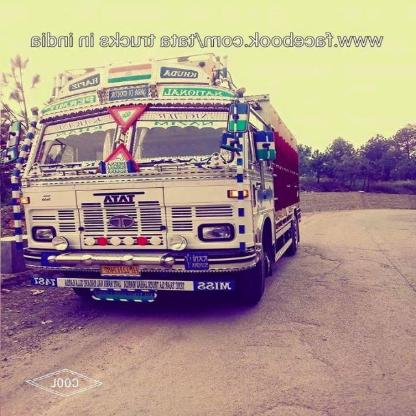truck: (23, 71, 299, 307)
